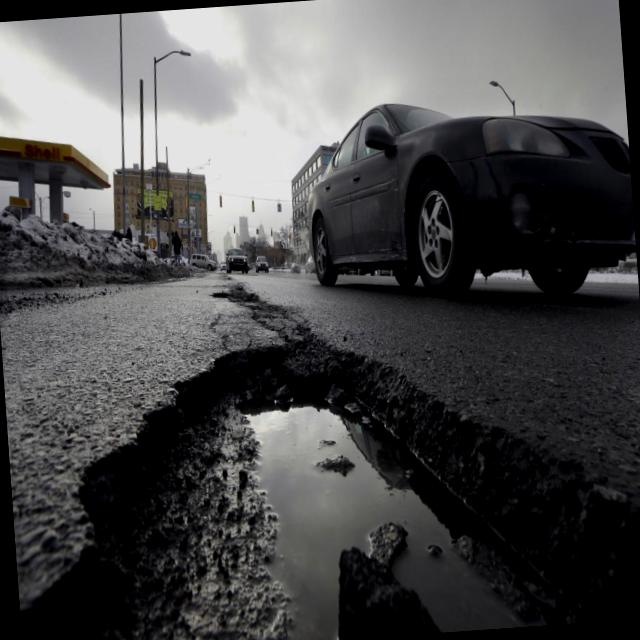bad-road: (3, 313, 640, 640), (210, 276, 313, 340)
